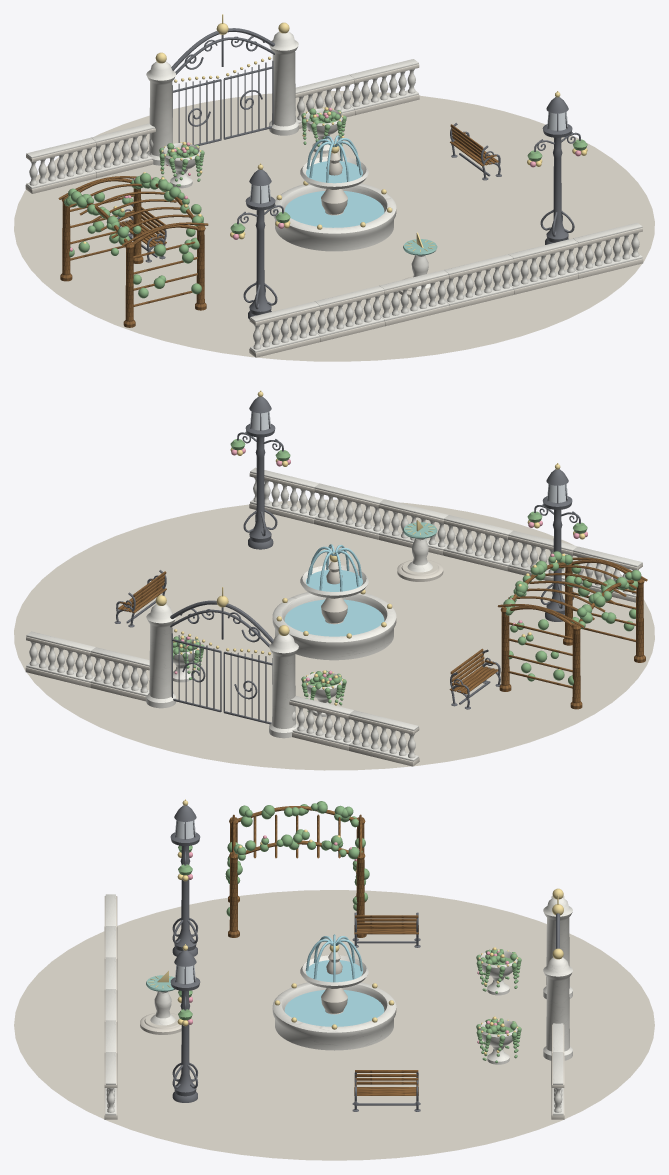
The model's file is th35_ensemble.glb.
The picture shows the model from 3 angles, top to bottom: view 1: azimuth 30°, elevation 25°; view 2: azimuth 150°, elevation 25°; view 3: azimuth 270°, elevation 25°; orthographic projection.
Visible parts, largest first — view 1: Circle, Becken, Pfeiler.001, Circle.001, Pfeiler, Mast, Mast.001, Pfosten.001, Circle.002, Schale, Pfosten.003, Pfosten (+4 smaller); view 2: Circle, Becken, Pfeiler, Pfeiler.001, Circle.001, Mast.001, Mast, Pfosten.003, Circle.002, Pfosten.002, Schale, Pfosten.001 (+3 smaller); view 3: Circle, Becken, Circle.001, Pfeiler.001, Pfeiler, Mast.001, Mast, Circle.002, Schale, Pfosten, Schale.001, Schale.002 (+4 smaller).
Part boxes in pixels (box(x1,y1,x2,y2)): Circle: box(14, 90, 654, 361); Becken: box(272, 183, 396, 251); Pfeiler.001: box(269, 31, 298, 135); Circle.001: box(284, 191, 384, 227); Pfeiler: box(146, 61, 175, 165); Mast: box(248, 210, 271, 319); Mast.001: box(545, 137, 568, 244); Pfosten.001: box(123, 242, 135, 327); Circle.002: box(306, 161, 362, 183); Schale: box(300, 156, 368, 189); Pfosten.003: box(60, 195, 72, 281); Pfosten: box(195, 225, 206, 310); Circle: box(14, 499, 654, 770); Becken: box(272, 592, 396, 660); Pfeiler: box(269, 634, 298, 738); Pfeiler.001: box(146, 604, 175, 708); Circle.001: box(284, 599, 384, 636); Mast.001: box(248, 437, 273, 549); Mast: box(545, 509, 564, 621); Pfosten.003: box(570, 623, 582, 709); Circle.002: box(306, 570, 362, 591); Pfosten.002: box(499, 607, 511, 691); Schale: box(300, 565, 368, 597); Pfosten.001: box(634, 578, 645, 662); Circle: box(14, 890, 654, 1160); Becken: box(272, 982, 396, 1050); Circle.001: box(284, 990, 384, 1026); Pfeiler.001: box(543, 957, 572, 1060); Pfeiler: box(543, 897, 572, 998); Mast.001: box(172, 991, 197, 1102); Mast: box(172, 846, 197, 956); Circle.002: box(306, 960, 362, 982); Schale: box(300, 955, 368, 988); Pfosten: box(228, 852, 239, 937); Schale.001: box(479, 950, 517, 995); Schale.002: box(479, 1019, 517, 1064).
Size of the model in its own units: 17.2 by 4.55 by 17.2.
64 materials, 18 textured.
